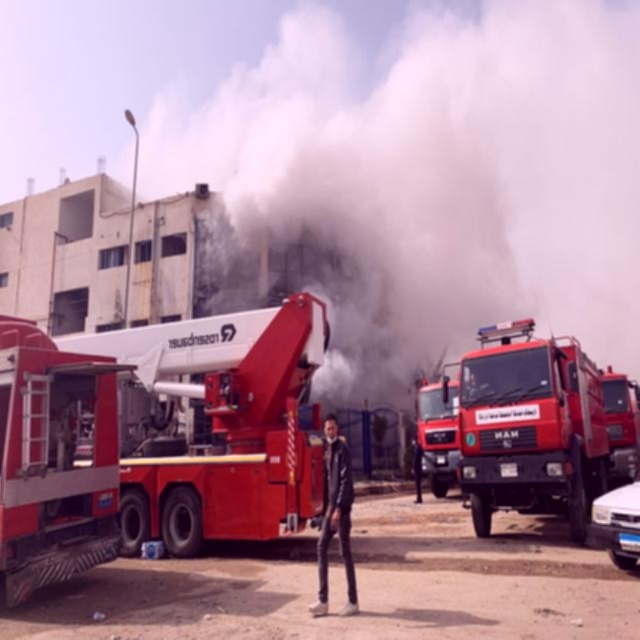Fire-truck: (0, 280, 310, 631), (448, 320, 599, 548), (406, 370, 482, 500)
car: (590, 472, 640, 570)
person: (308, 412, 359, 617), (412, 435, 423, 503), (465, 373, 483, 399)
